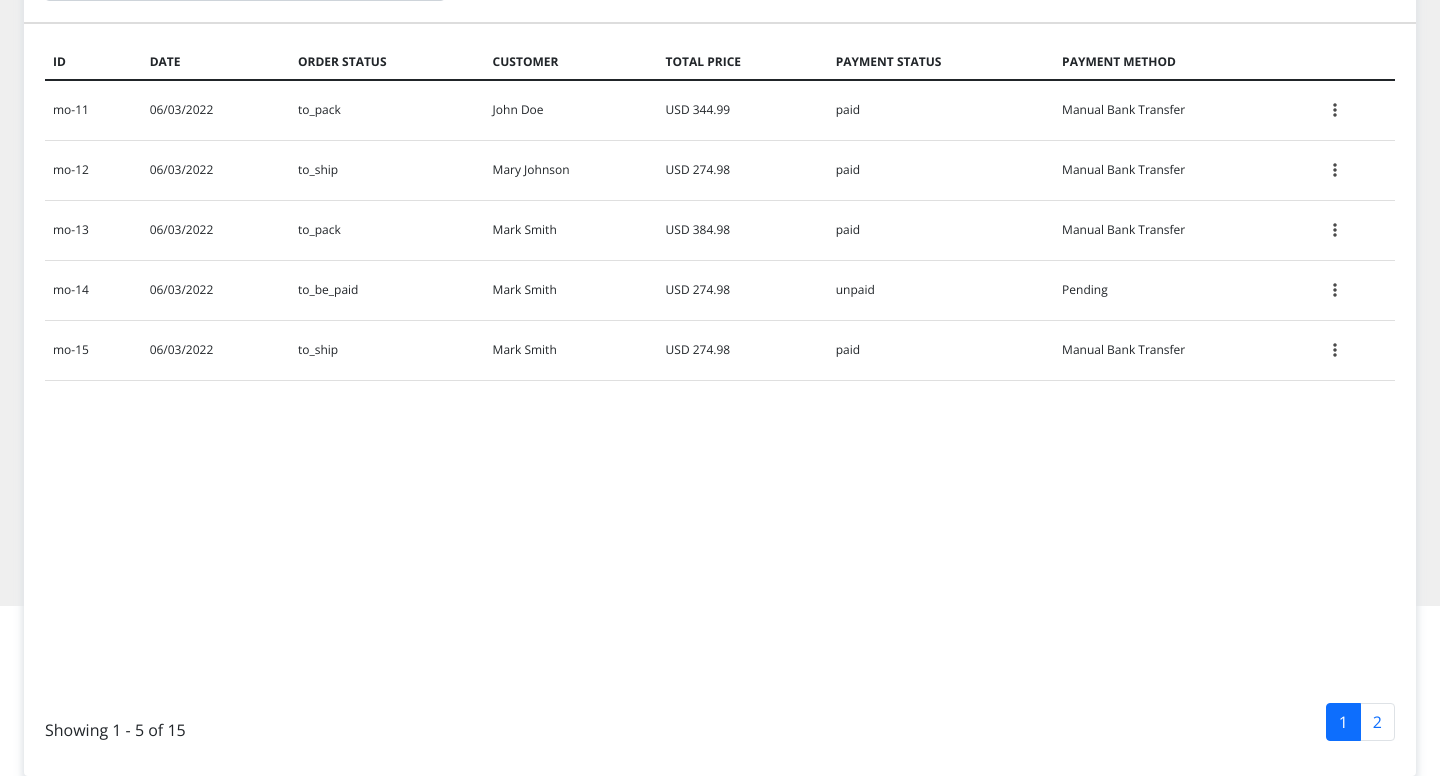
it: displays 2nd page of active orders correctly
The image size is (1440, 776).
(page scrolled)
Click the button with test id "pagination-page-2".
click(1377, 722)  # box [1360, 703, 1395, 741]
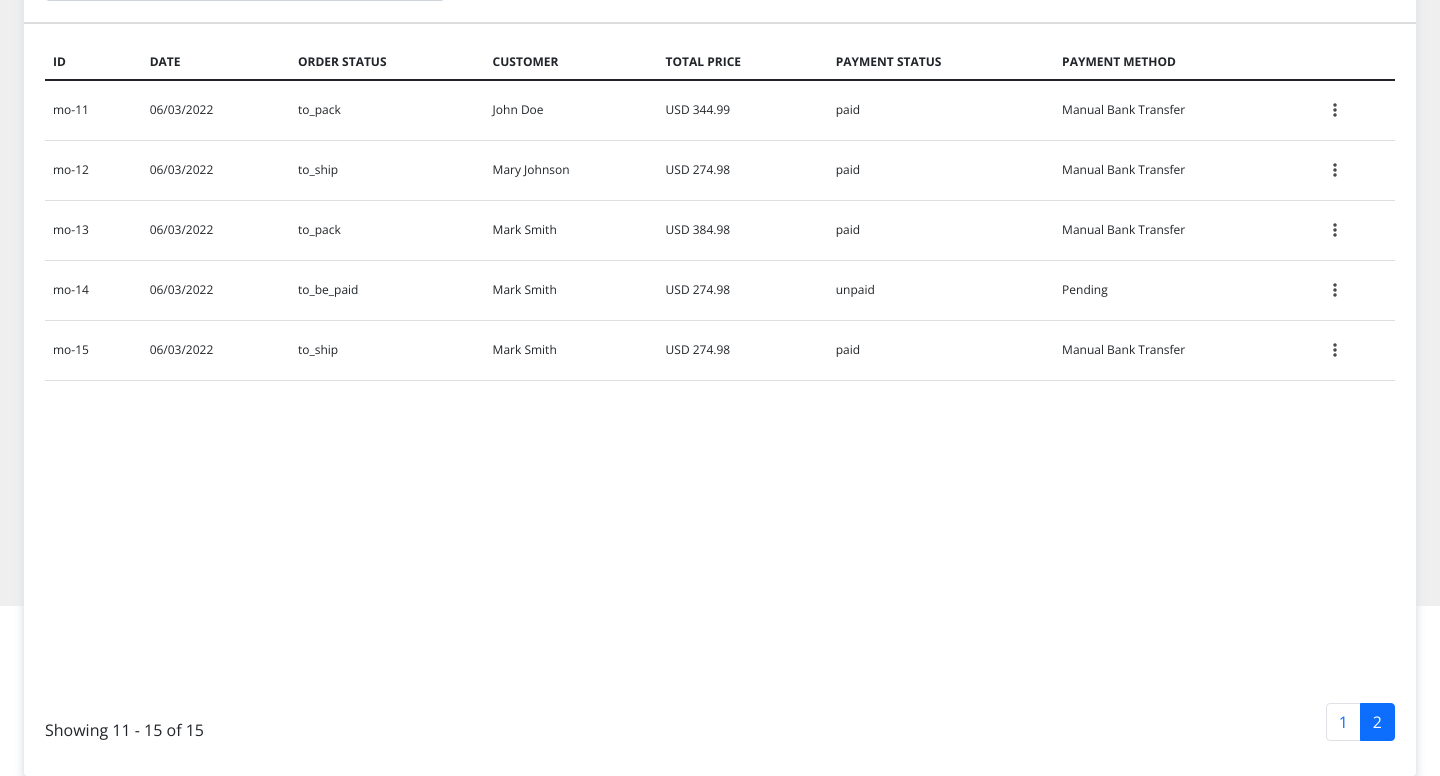
expect the text "mo-11" is shown: met, box [45, 80, 142, 140]
expect the text "Showing 11 - 15 of 15" is shown: met, box [45, 718, 204, 742]
